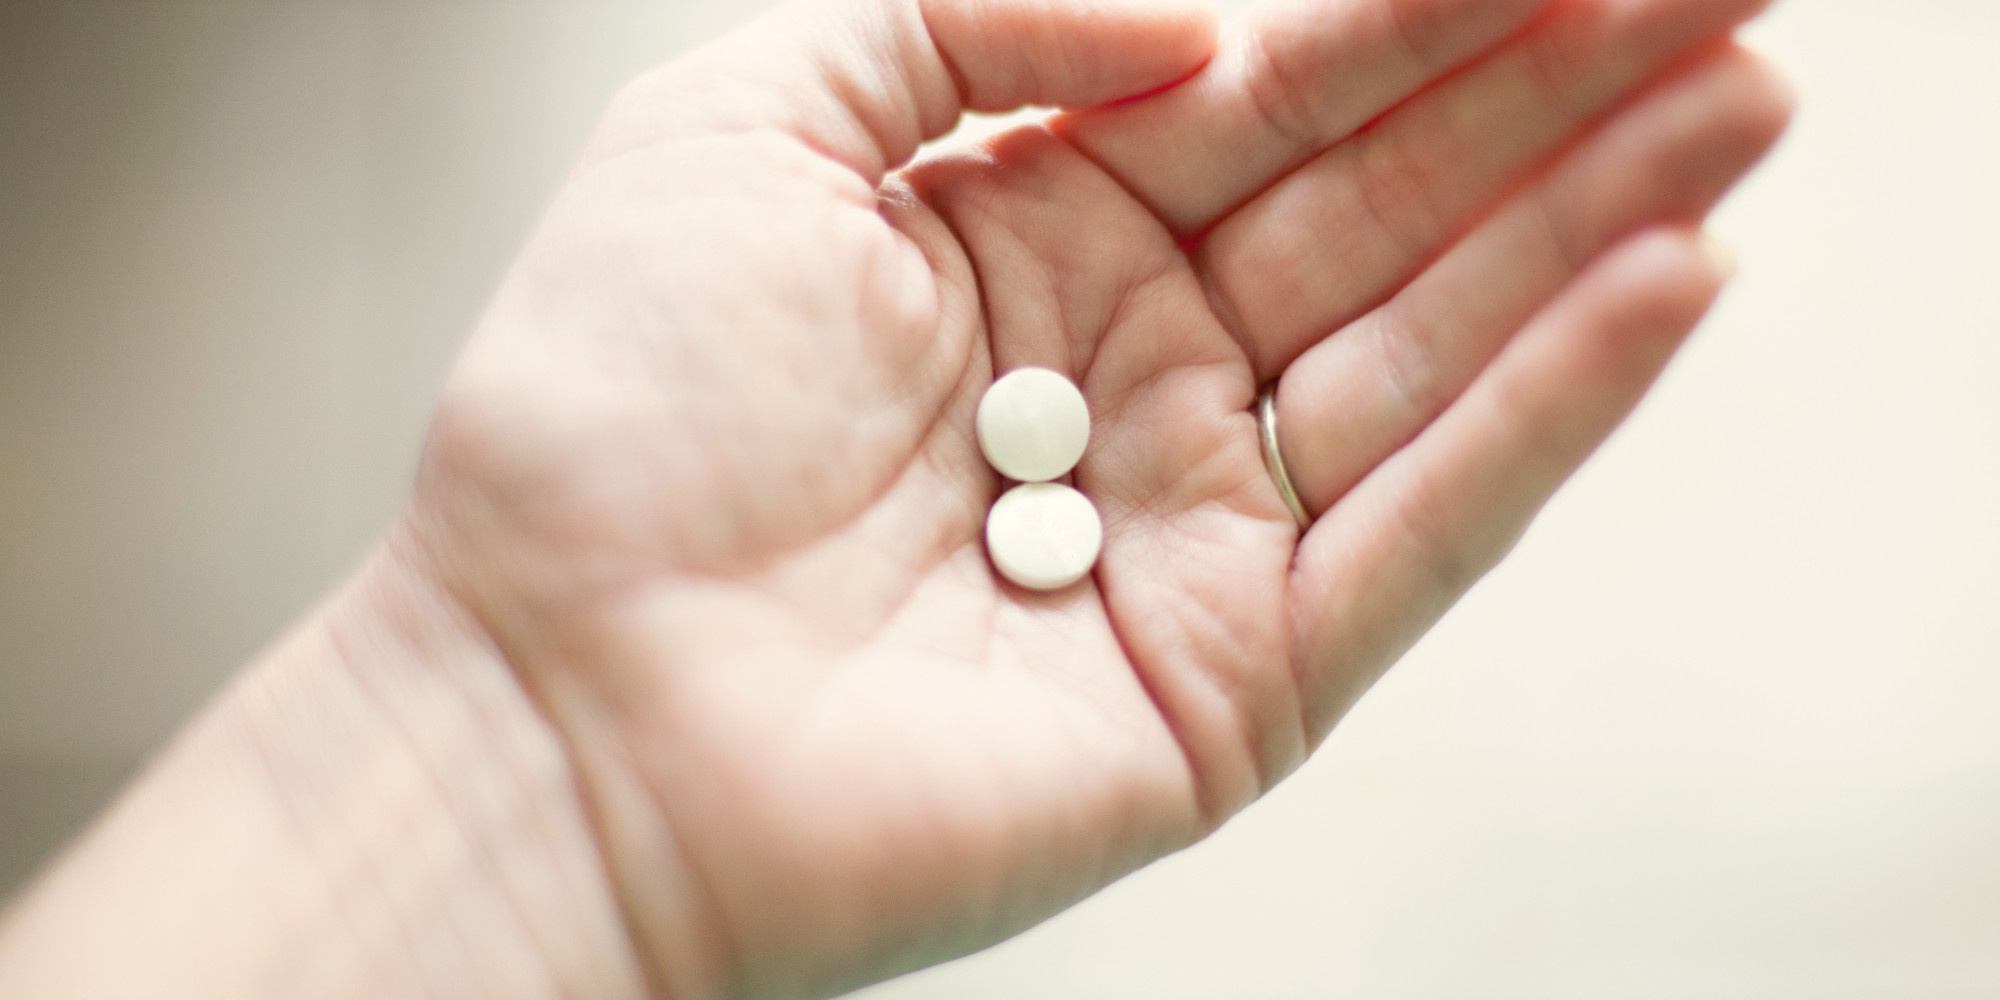pills: (958, 473, 1110, 584), (964, 358, 1091, 477)
